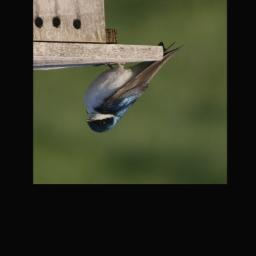Swallow: (82, 36, 185, 134)
